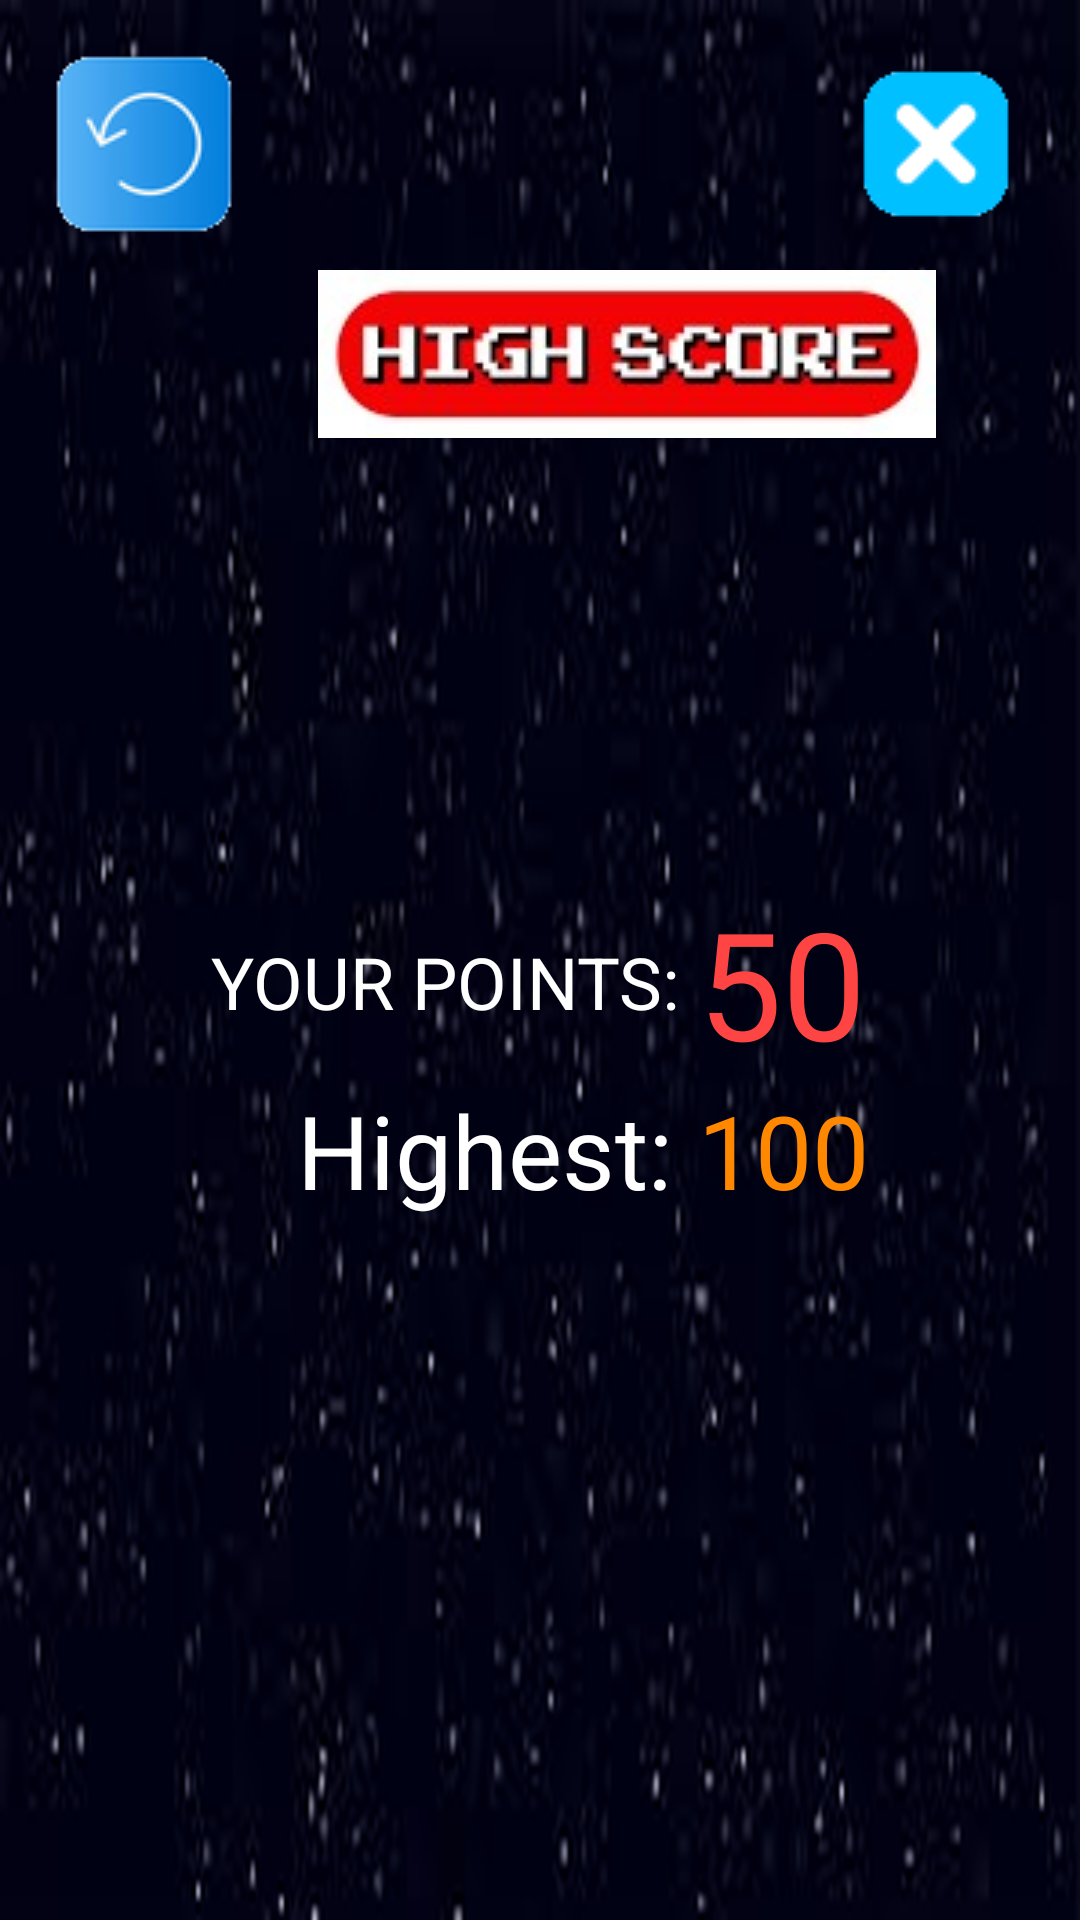

Point at icon controls on the screen. Image size 1080px×1920px, points as (x=x, y=y).
exit id: (x=937, y=134)
restart id: (x=144, y=144)
